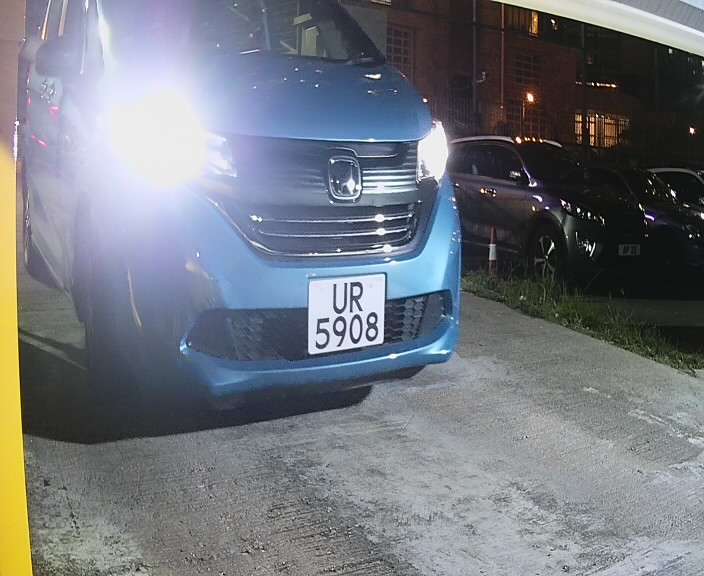Car: (3, 2, 486, 450)
License Plate: (301, 267, 391, 364)
